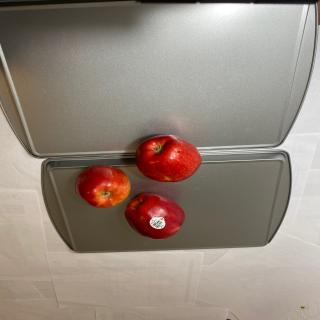Apple: (135, 134, 202, 182), (124, 193, 186, 240), (75, 164, 131, 208)
